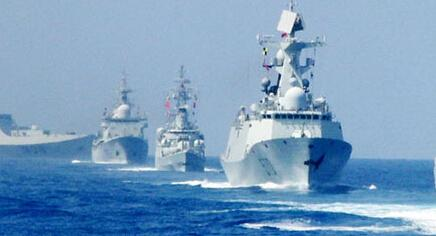warship: (222, 1, 357, 186), (156, 63, 208, 174), (86, 79, 151, 167)
